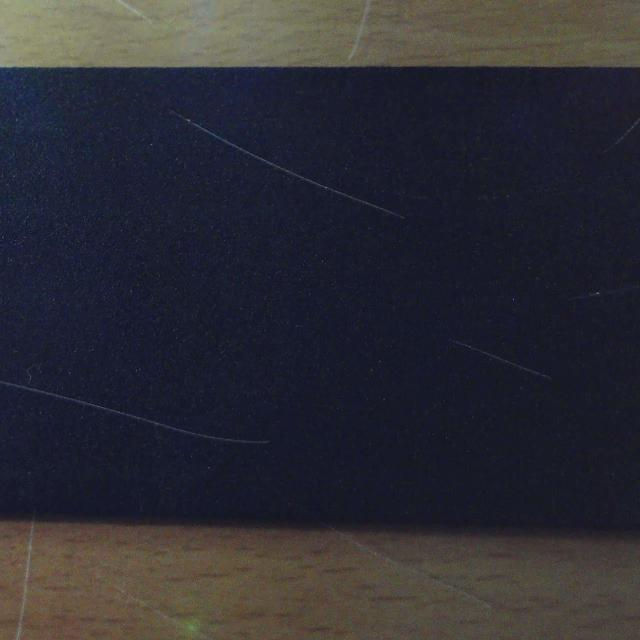defect: (166, 107, 406, 221), (0, 379, 270, 447), (448, 339, 552, 389), (602, 112, 640, 156)
